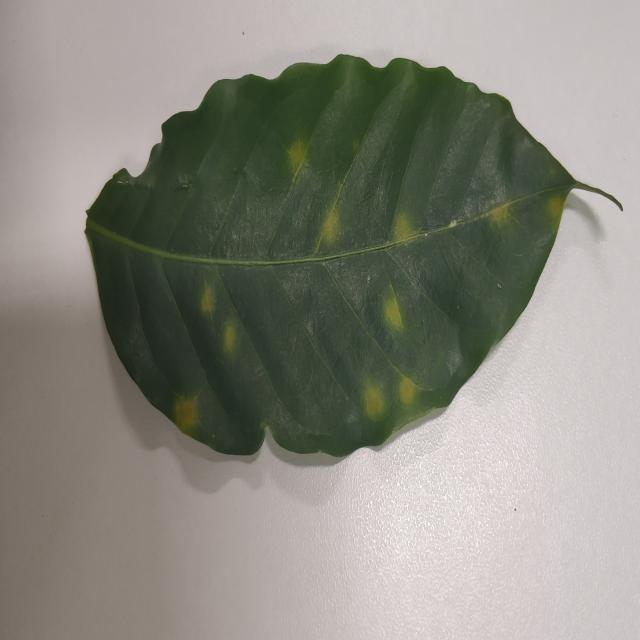Enfermedad-Roya: (83, 55, 595, 464)
